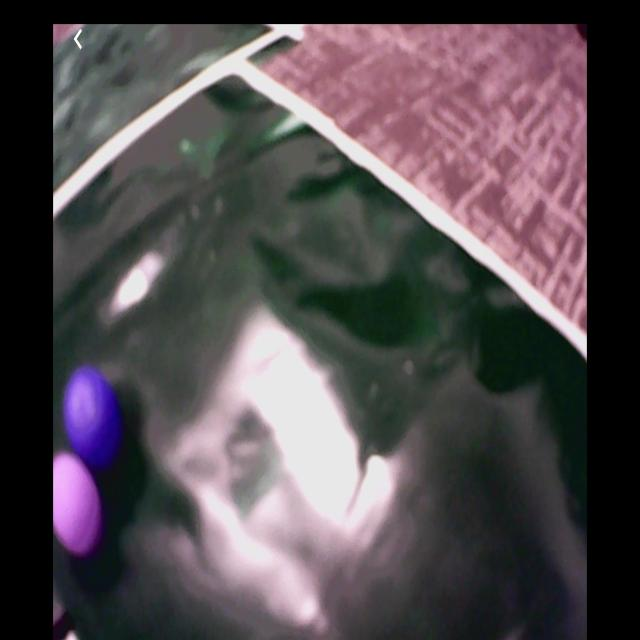ball: (62, 372, 124, 471), (55, 454, 106, 560)
